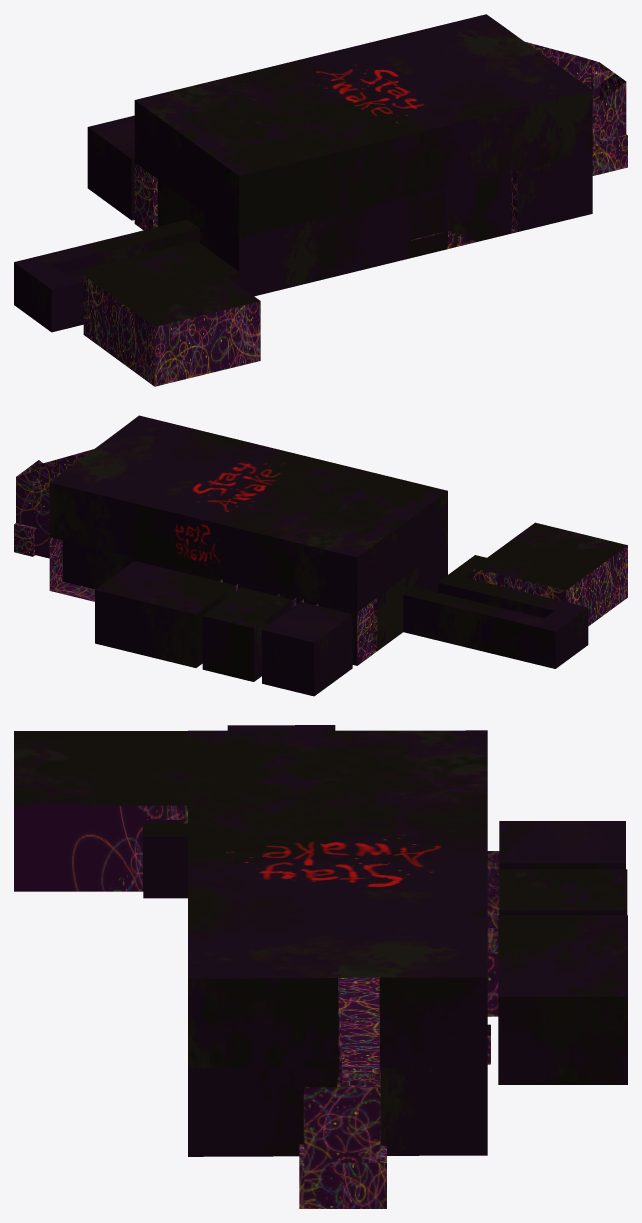
The model's file is suelosytechosyparedes-respaldo.fbx.
3 views of the same model, one above another, from view 1: azimuth 30°, elevation 25°; view 2: azimuth 150°, elevation 25°; view 3: azimuth 270°, elevation 25° (orthographic). The views are drawn at different scales.
Visible parts, largest first — view 1: Cube.097, techos_escaleras; view 2: Cube.097, techos_escaleras, suelo_sala_baja; view 3: techos_escaleras, Cube.097, suelo_sala_baja.
Part boxes in pixels (x1,y1,x2,y2): Cube.097: (14,42,627,386); techos_escaleras: (14,14,591,326); Cube.097: (14,449,627,696); techos_escaleras: (50,415,627,642); suelo_sala_baja: (14,522,376,653); techos_escaleras: (14,725,627,996); Cube.097: (14,805,627,1208); suelo_sala_baja: (299,977,386,1162).
Bounding box in the file's own units: 3252 × 676 × 1999.
